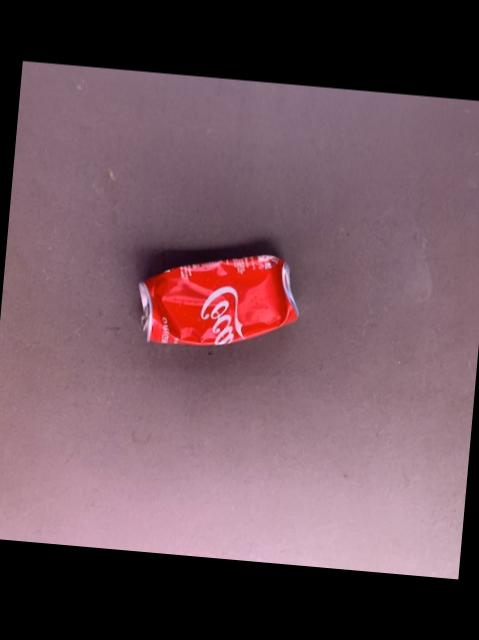metal: (136, 253, 294, 343)
